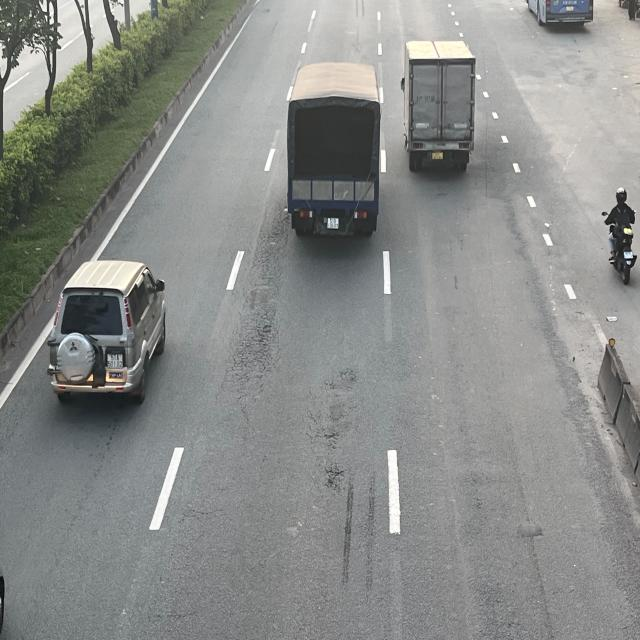car: (48, 260, 170, 405)
truck: (287, 62, 385, 240), (400, 38, 477, 170)
